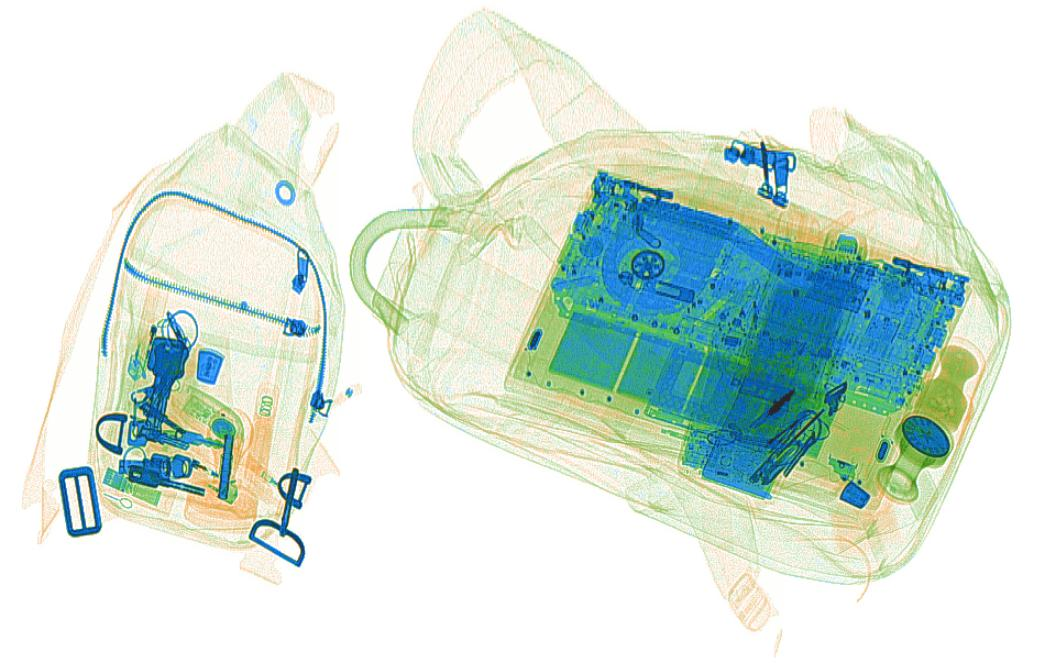USBFlashDisk: (99, 465, 163, 509)
lighter: (149, 435, 239, 506), (125, 276, 170, 385)
scissors: (748, 438, 805, 485)
seal: (181, 405, 259, 532), (876, 414, 955, 508), (909, 340, 980, 436)
